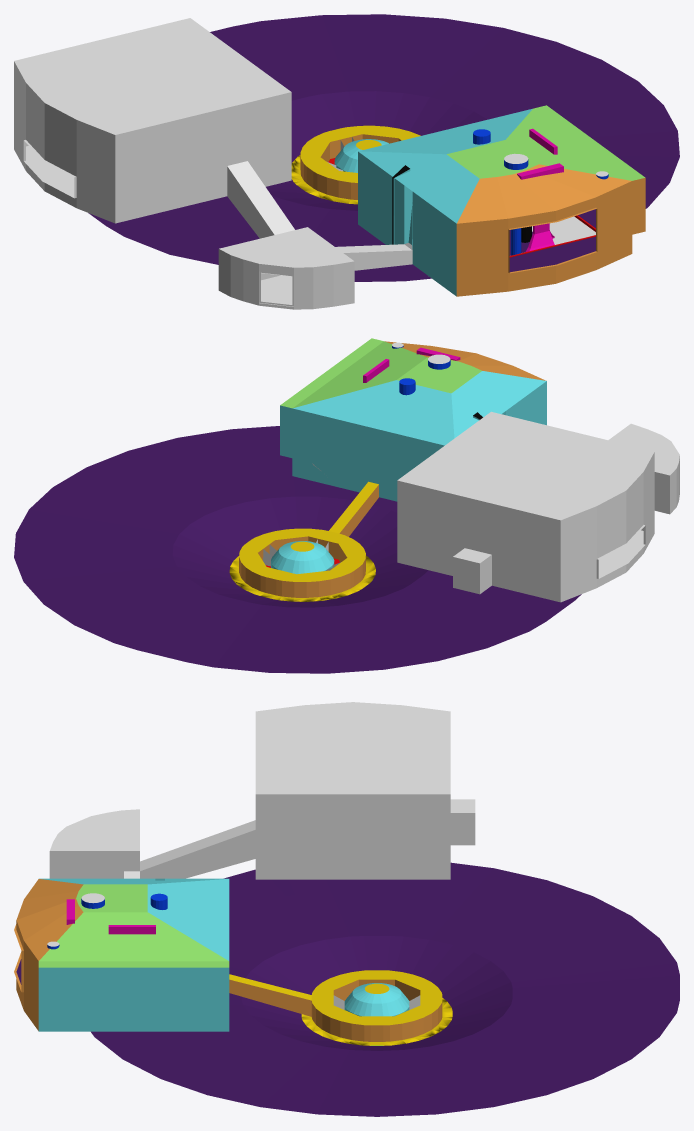
The model's file is SpaceShipLevel.fbx.
3 renders of one model, top to bottom at view 1: azimuth 30°, elevation 25°; view 2: azimuth 150°, elevation 25°; view 3: azimuth 270°, elevation 25°, orthographic. The views are drawn at different scales.
Parts seen in each view (by area): view 1: SpaceShip; view 2: SpaceShip; view 3: SpaceShip.
Boxes of the visible parts, bbox=[...] form: SpaceShip: bbox=[14, 14, 679, 309]; SpaceShip: bbox=[14, 338, 679, 673]; SpaceShip: bbox=[14, 702, 679, 1116].
Size of the model in its own units: 410 by 404 by 110.
